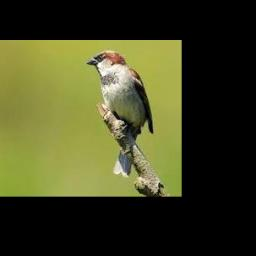Sparrow: (87, 50, 155, 177)
